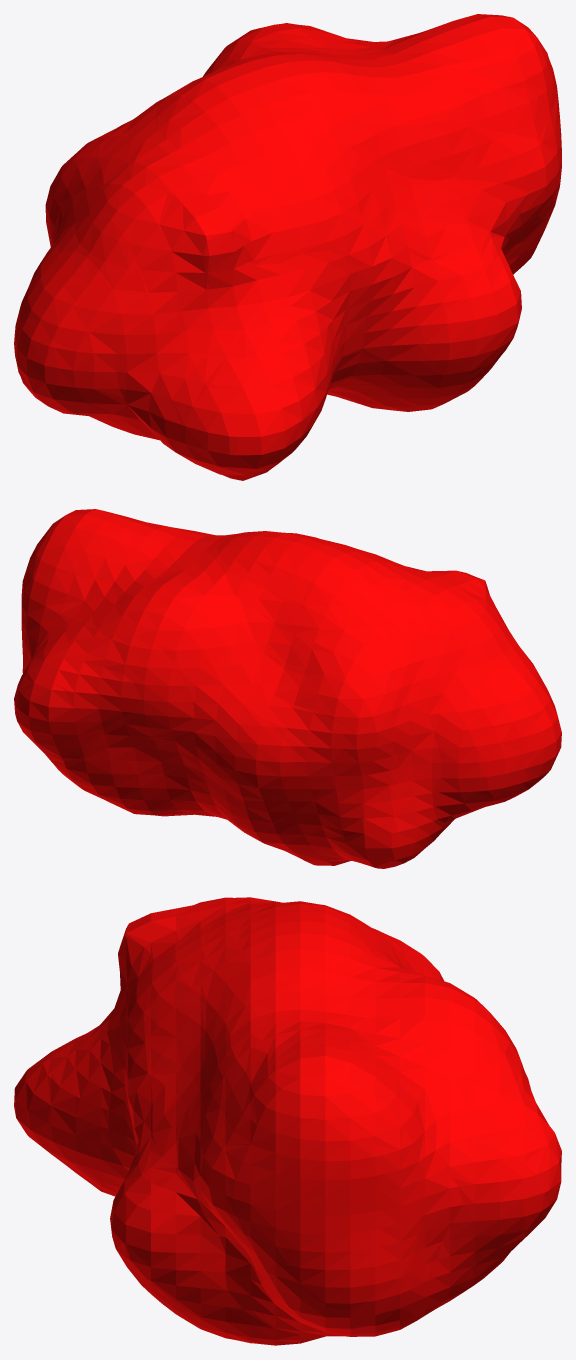
File: Synaptotagmin_like_protein_4_E_coarse.dae
The picture shows the model from 3 angles, top to bottom: view 1: azimuth 30°, elevation 25°; view 2: azimuth 150°, elevation 25°; view 3: azimuth 270°, elevation 25°; orthographic projection. The views are drawn at different scales.
Visible parts, largest first — view 1: Synaptotagmin_like_protein_4_E; view 2: Synaptotagmin_like_protein_4_E; view 3: Synaptotagmin_like_protein_4_E.
Boxes of the visible parts, x1,y1,x2,y2 form: Synaptotagmin_like_protein_4_E: (14, 14, 561, 480); Synaptotagmin_like_protein_4_E: (14, 509, 561, 868); Synaptotagmin_like_protein_4_E: (14, 897, 561, 1345).
Bounding box in the file's own units: 52.84 × 31.67 × 42.75.
